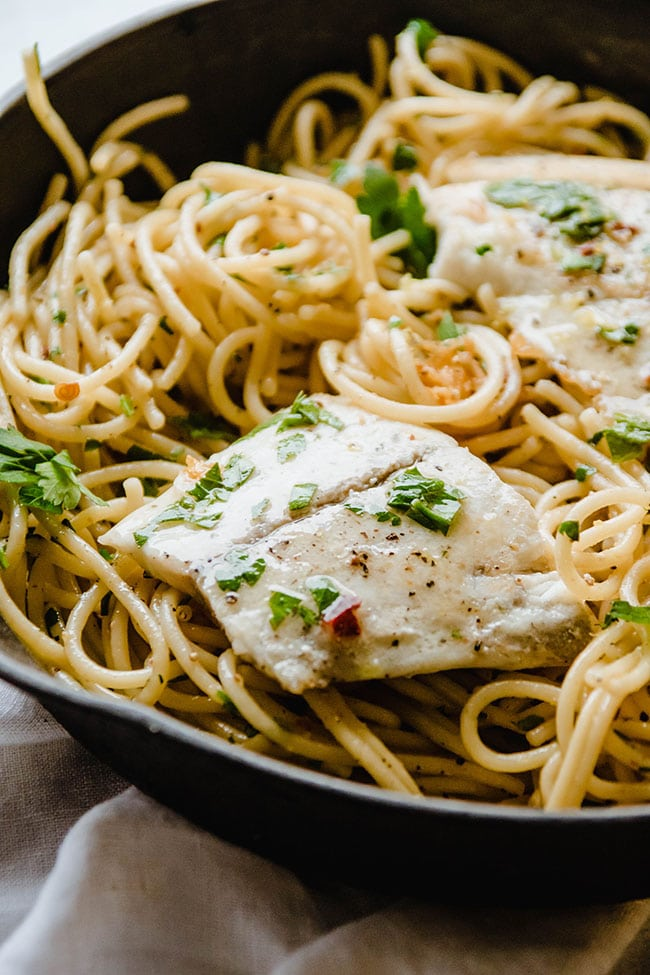plain spaghetti: (38, 65, 650, 769)
